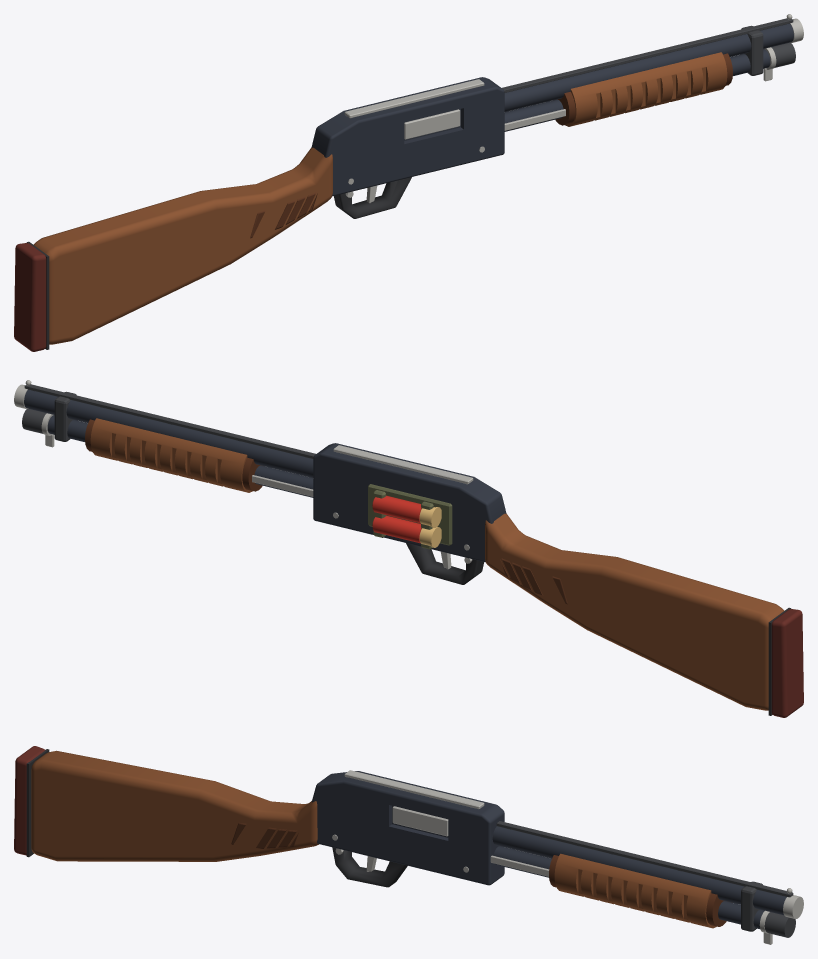
The model's file is shotgun.glb.
The picture shows the model from 3 angles, top to bottom: view 1: azimuth 30°, elevation 25°; view 2: azimuth 150°, elevation 25°; view 3: azimuth 330°, elevation 25°; orthographic projection.
Parts seen in each view (by area): view 1: gun_frame, gun_slide; view 2: gun_frame, gun_slide, gun_mag; view 3: gun_frame, gun_slide.
Part boxes in pixels (x1,y1,x2,y2): gun_frame: [14, 14, 803, 351]; gun_slide: [504, 52, 732, 130]; gun_frame: [14, 380, 803, 717]; gun_slide: [85, 418, 313, 496]; gun_mag: [372, 495, 441, 547]; gun_frame: [14, 746, 803, 944]; gun_slide: [490, 853, 726, 928].
Bounding box in the file's own units: 0.9769 × 0.1855 × 0.0697.
